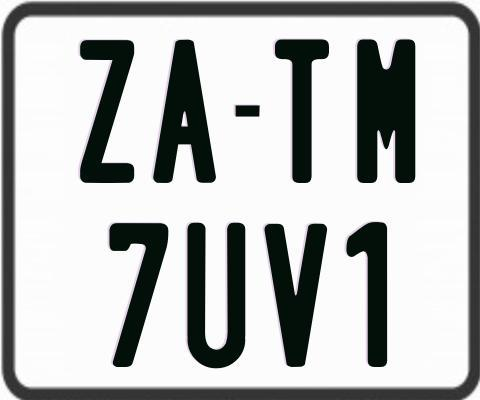1: (343, 222, 385, 373)
7: (107, 222, 166, 370)
A: (151, 38, 219, 185)
M: (357, 39, 416, 189)
T: (273, 36, 333, 184)
U: (187, 222, 248, 372)
V: (263, 224, 329, 369)
Z: (77, 40, 131, 189)
